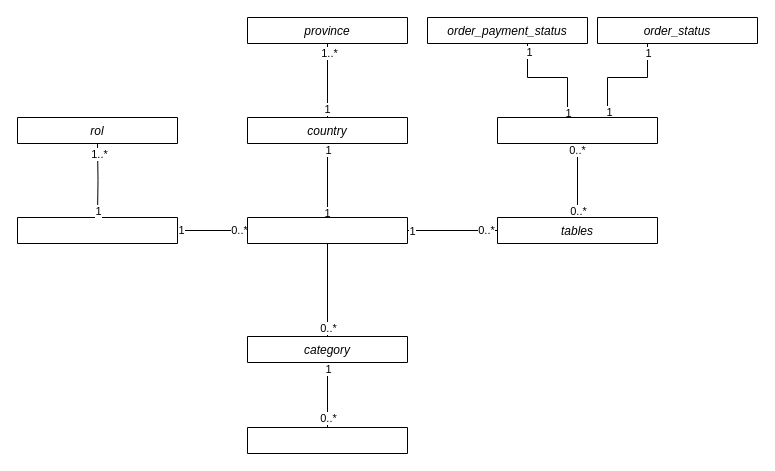
Some shapes in this 775 by 471 pixel diagram are drawn without their labels. The box of each missing label's shape, as (x1, y1, x2, y2) in pixels:
order: (496, 116, 658, 144)
product: (246, 426, 408, 454)
restaurant: (246, 216, 408, 244)
user: (16, 216, 178, 244)
